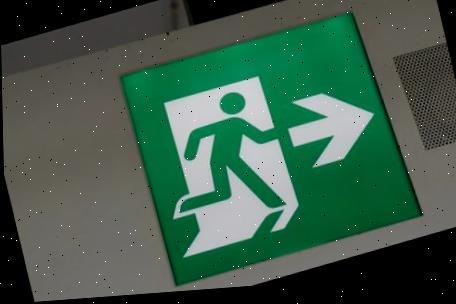emergency_exit: (118, 10, 425, 287)
